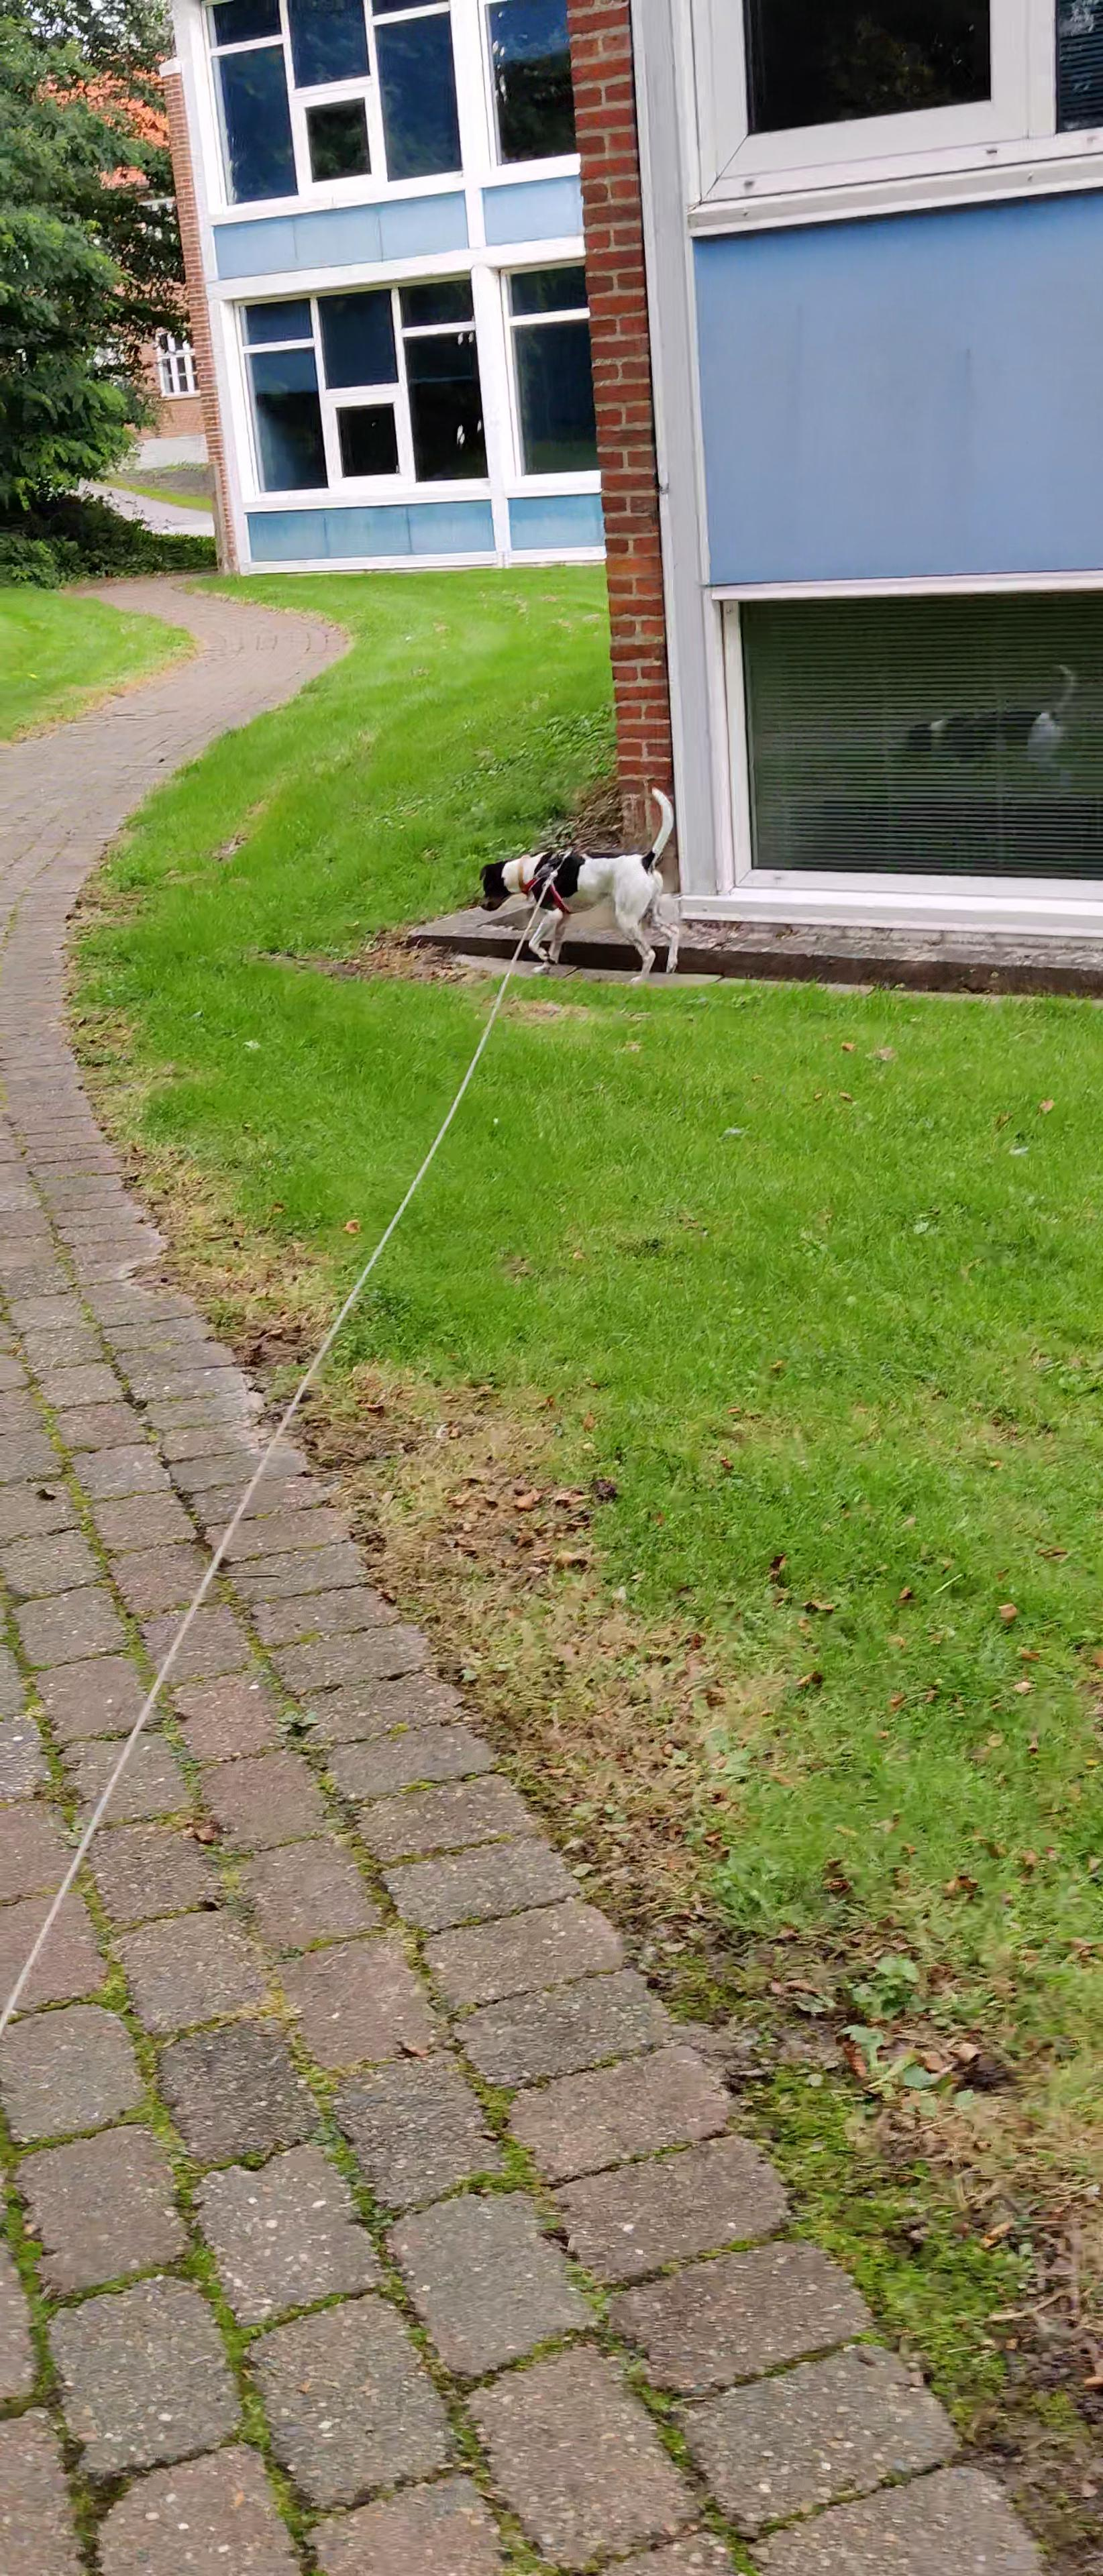Dog: (464, 782, 685, 987)
